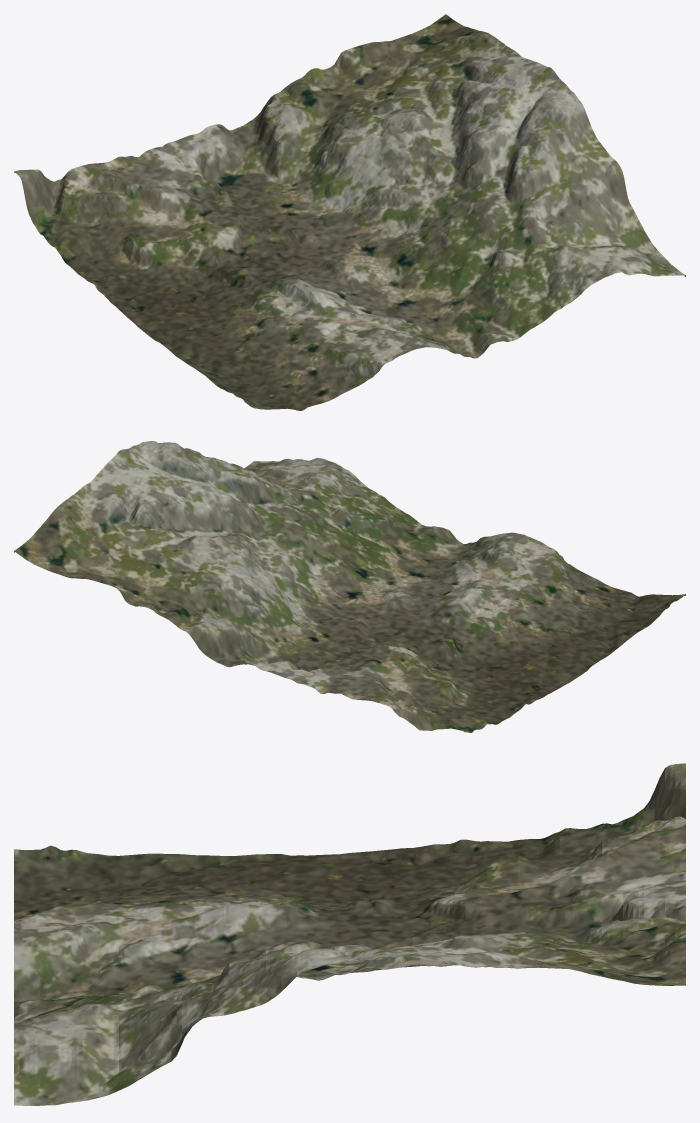
The picture shows the model from 3 angles, top to bottom: view 1: azimuth 30°, elevation 25°; view 2: azimuth 150°, elevation 25°; view 3: azimuth 270°, elevation 25°; orthographic projection. The views are drawn at different scales.
Size of the model in its own units: 250 by 84.34 by 241.
1 material, 1 textured.
